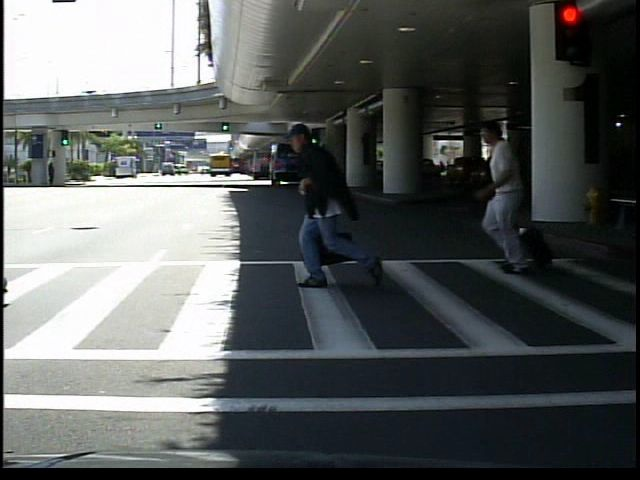person: (288, 116, 373, 291), (479, 112, 545, 271)
